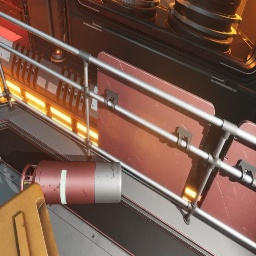NitrogenTank ,: (20, 160, 122, 205)
